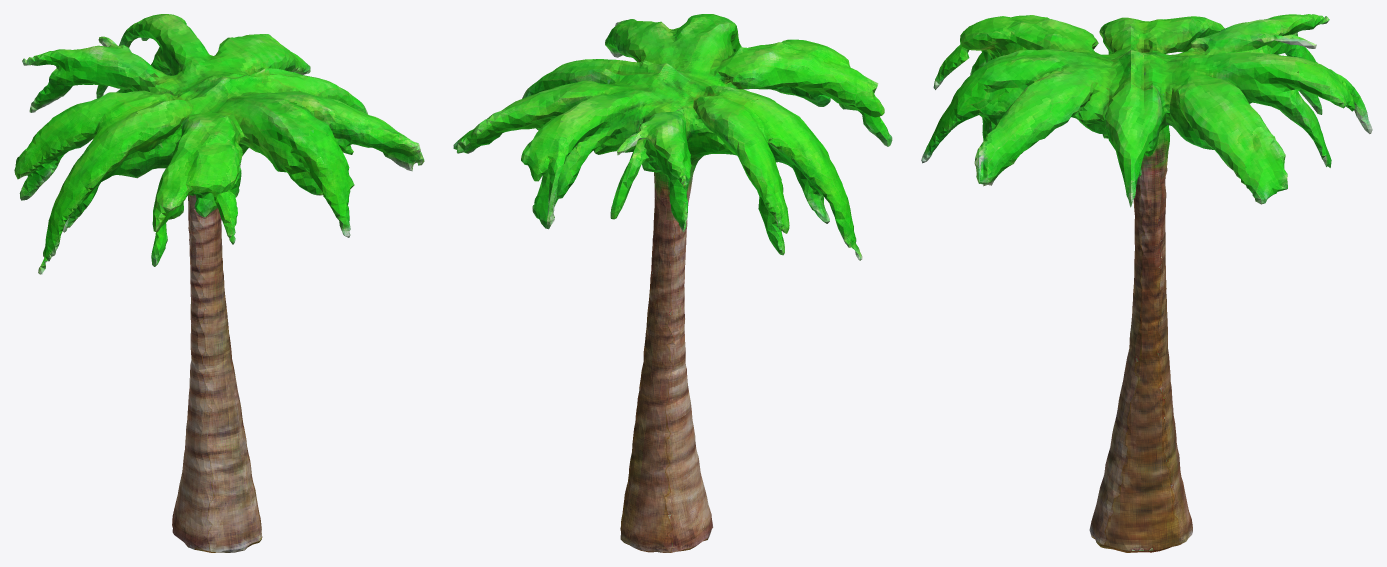
Rendered from a palm tree with a brown trunk and green leaves.glb.
The picture shows the model from 3 angles, left to right: view 1: azimuth 30°, elevation 25°; view 2: azimuth 150°, elevation 25°; view 3: azimuth 270°, elevation 25°; orthographic projection. The views are drawn at different scales.
Size of the model in its own units: 0.7436 by 0.9809 by 0.815.
Materials: 1 (1 with a texture image).
